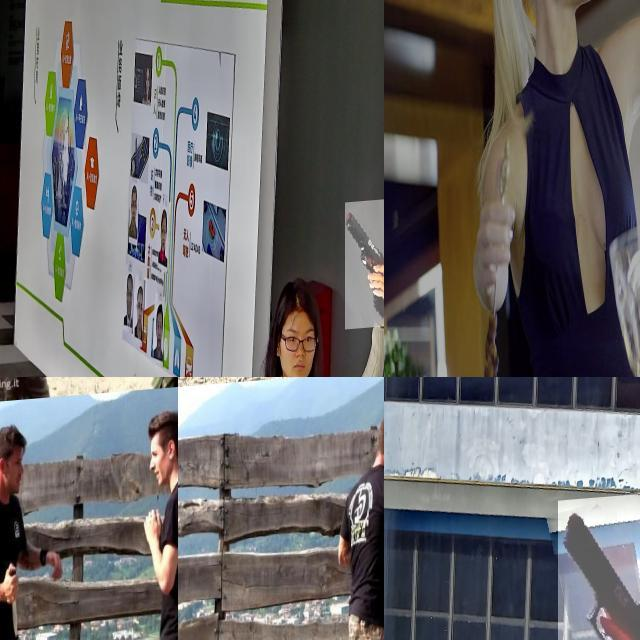-: (3, 563, 21, 640), (9, 377, 33, 416), (333, 377, 350, 416)
gun-knife-thesis - v11 Yolov5 augmented: (558, 497, 640, 640), (344, 207, 384, 337)
